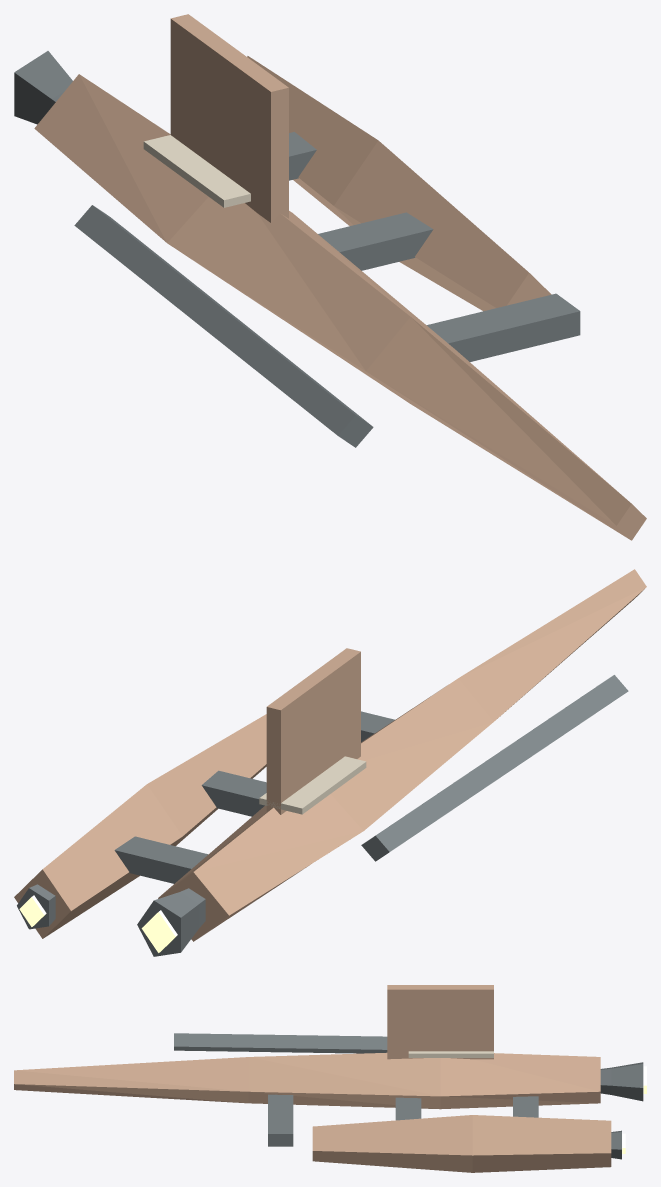
3 renders of one model, top to bottom at view 1: azimuth 30°, elevation 25°; view 2: azimuth 150°, elevation 25°; view 3: azimuth 270°, elevation 25°, orthographic. The views are drawn at different scales.
Size of the model in its own units: 7.99 by 5.46 by 22.5.
